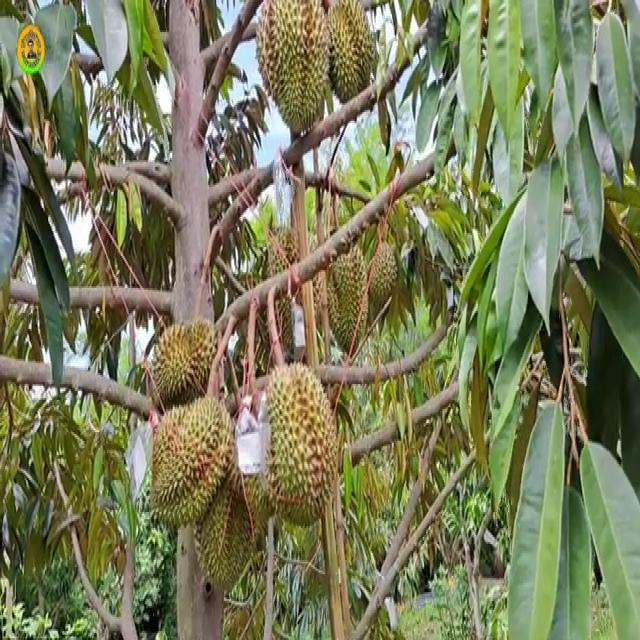durian: (253, 355, 342, 531), (143, 390, 234, 534), (195, 409, 261, 598), (255, 0, 333, 145), (146, 311, 228, 412), (323, 0, 377, 114), (325, 233, 370, 360)
